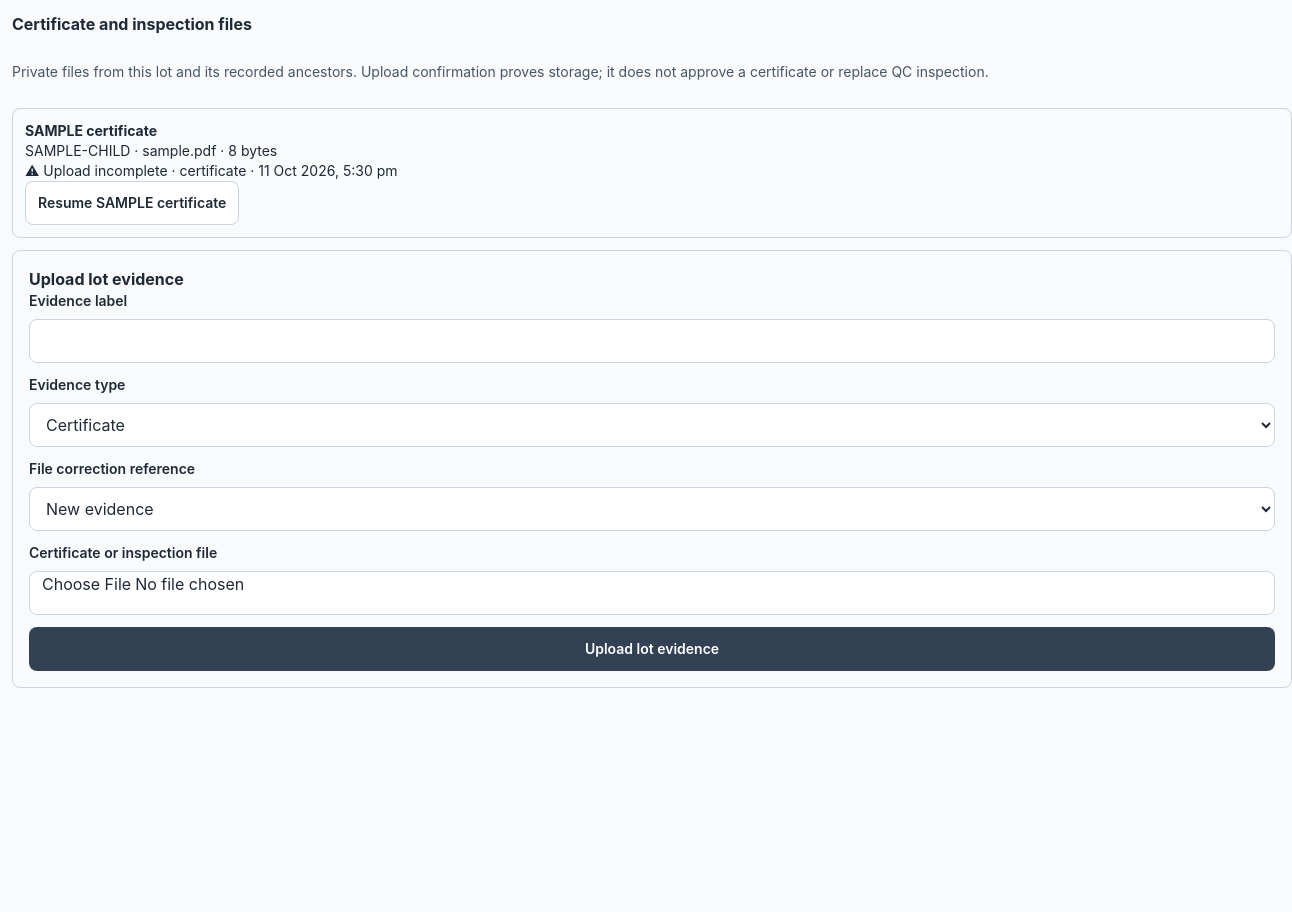
Scenario: retained lot evidence › exposes resumable incomplete uploads without a download or false confirmation
Click the button "Resume SAMPLE certificate" at coordinates (132, 203), box [25,181,239,225]
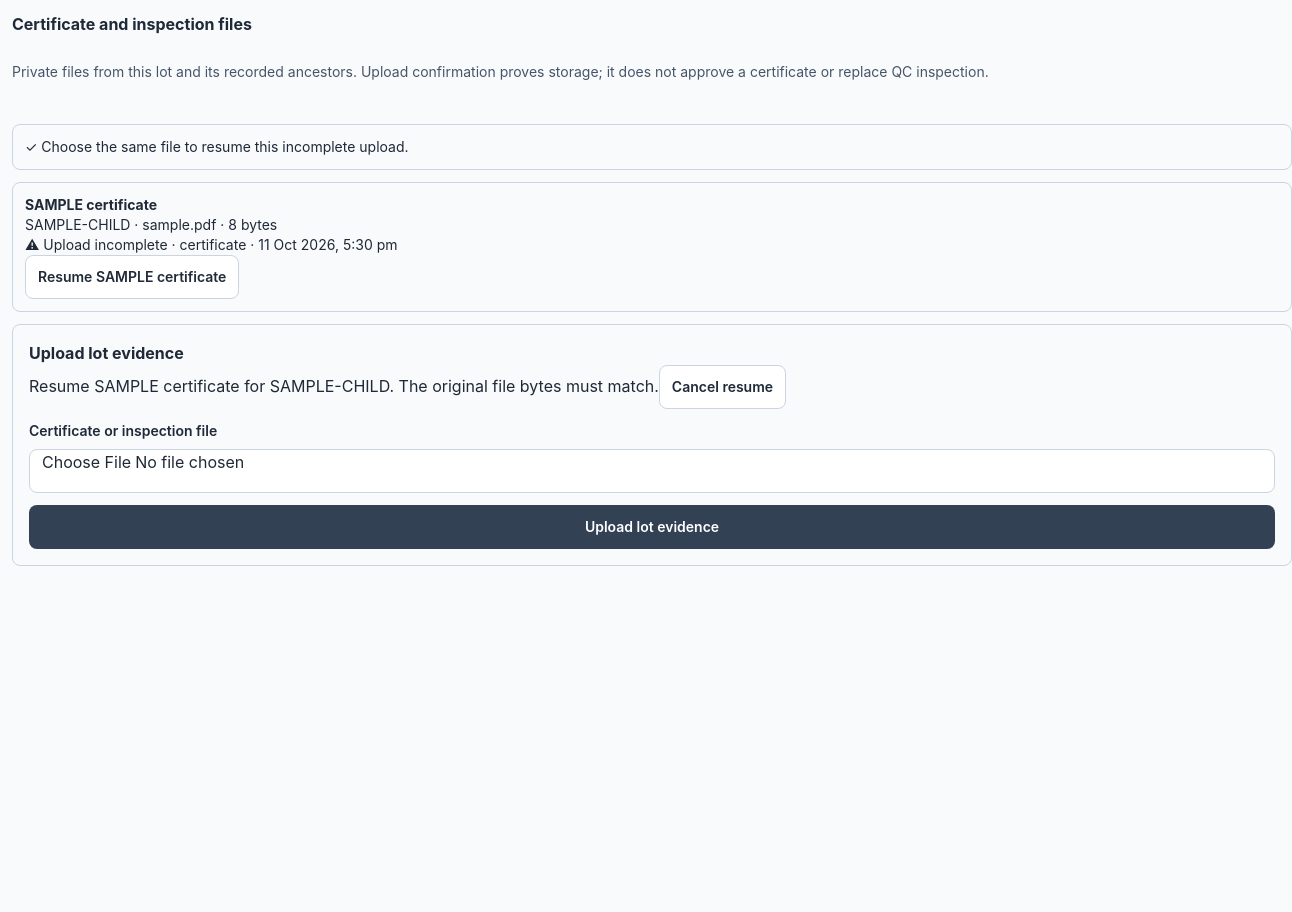
Now the text "original file bytes must match" is shown, box [390,376,659,396]
Now the label labelled "Evidence label" is gone
